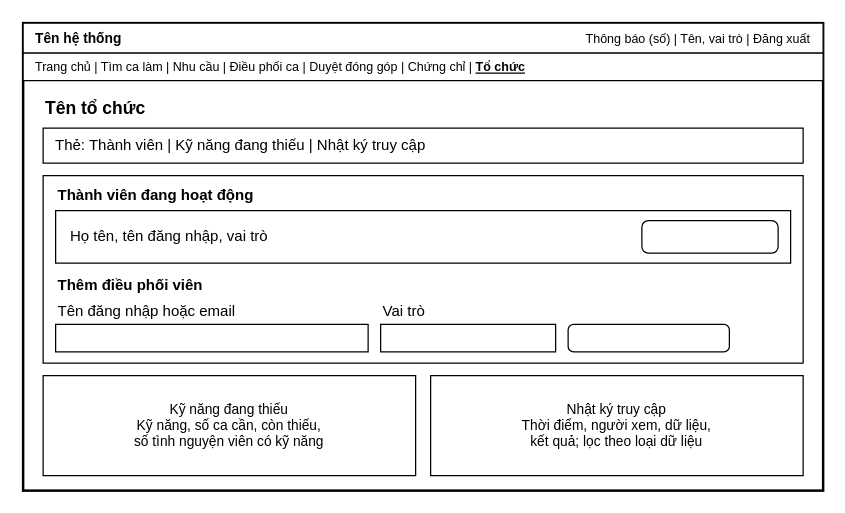
Image size: 845x513. Some labels were removed from this diagram. Each missing label, with the centre of its shape:
"Ngừng vai trò" goes at (x=709, y=236).
"Thêm vào tổ chức" goes at (x=648, y=337).
